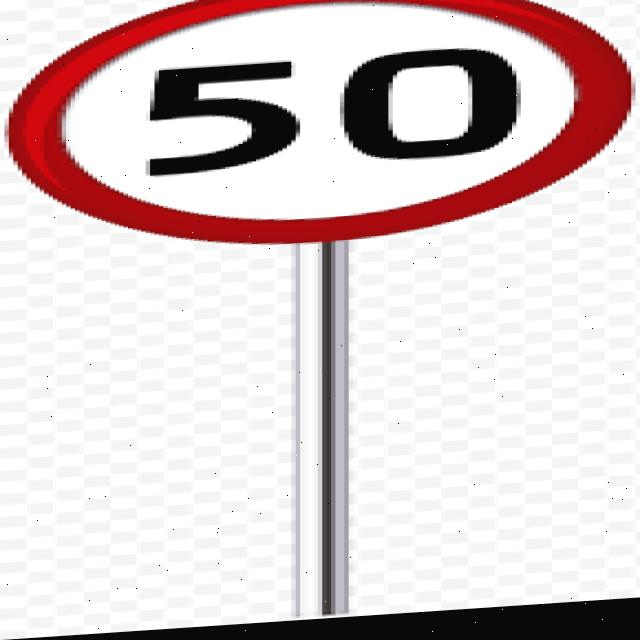Speed limit 50: (1, 1, 637, 266)
